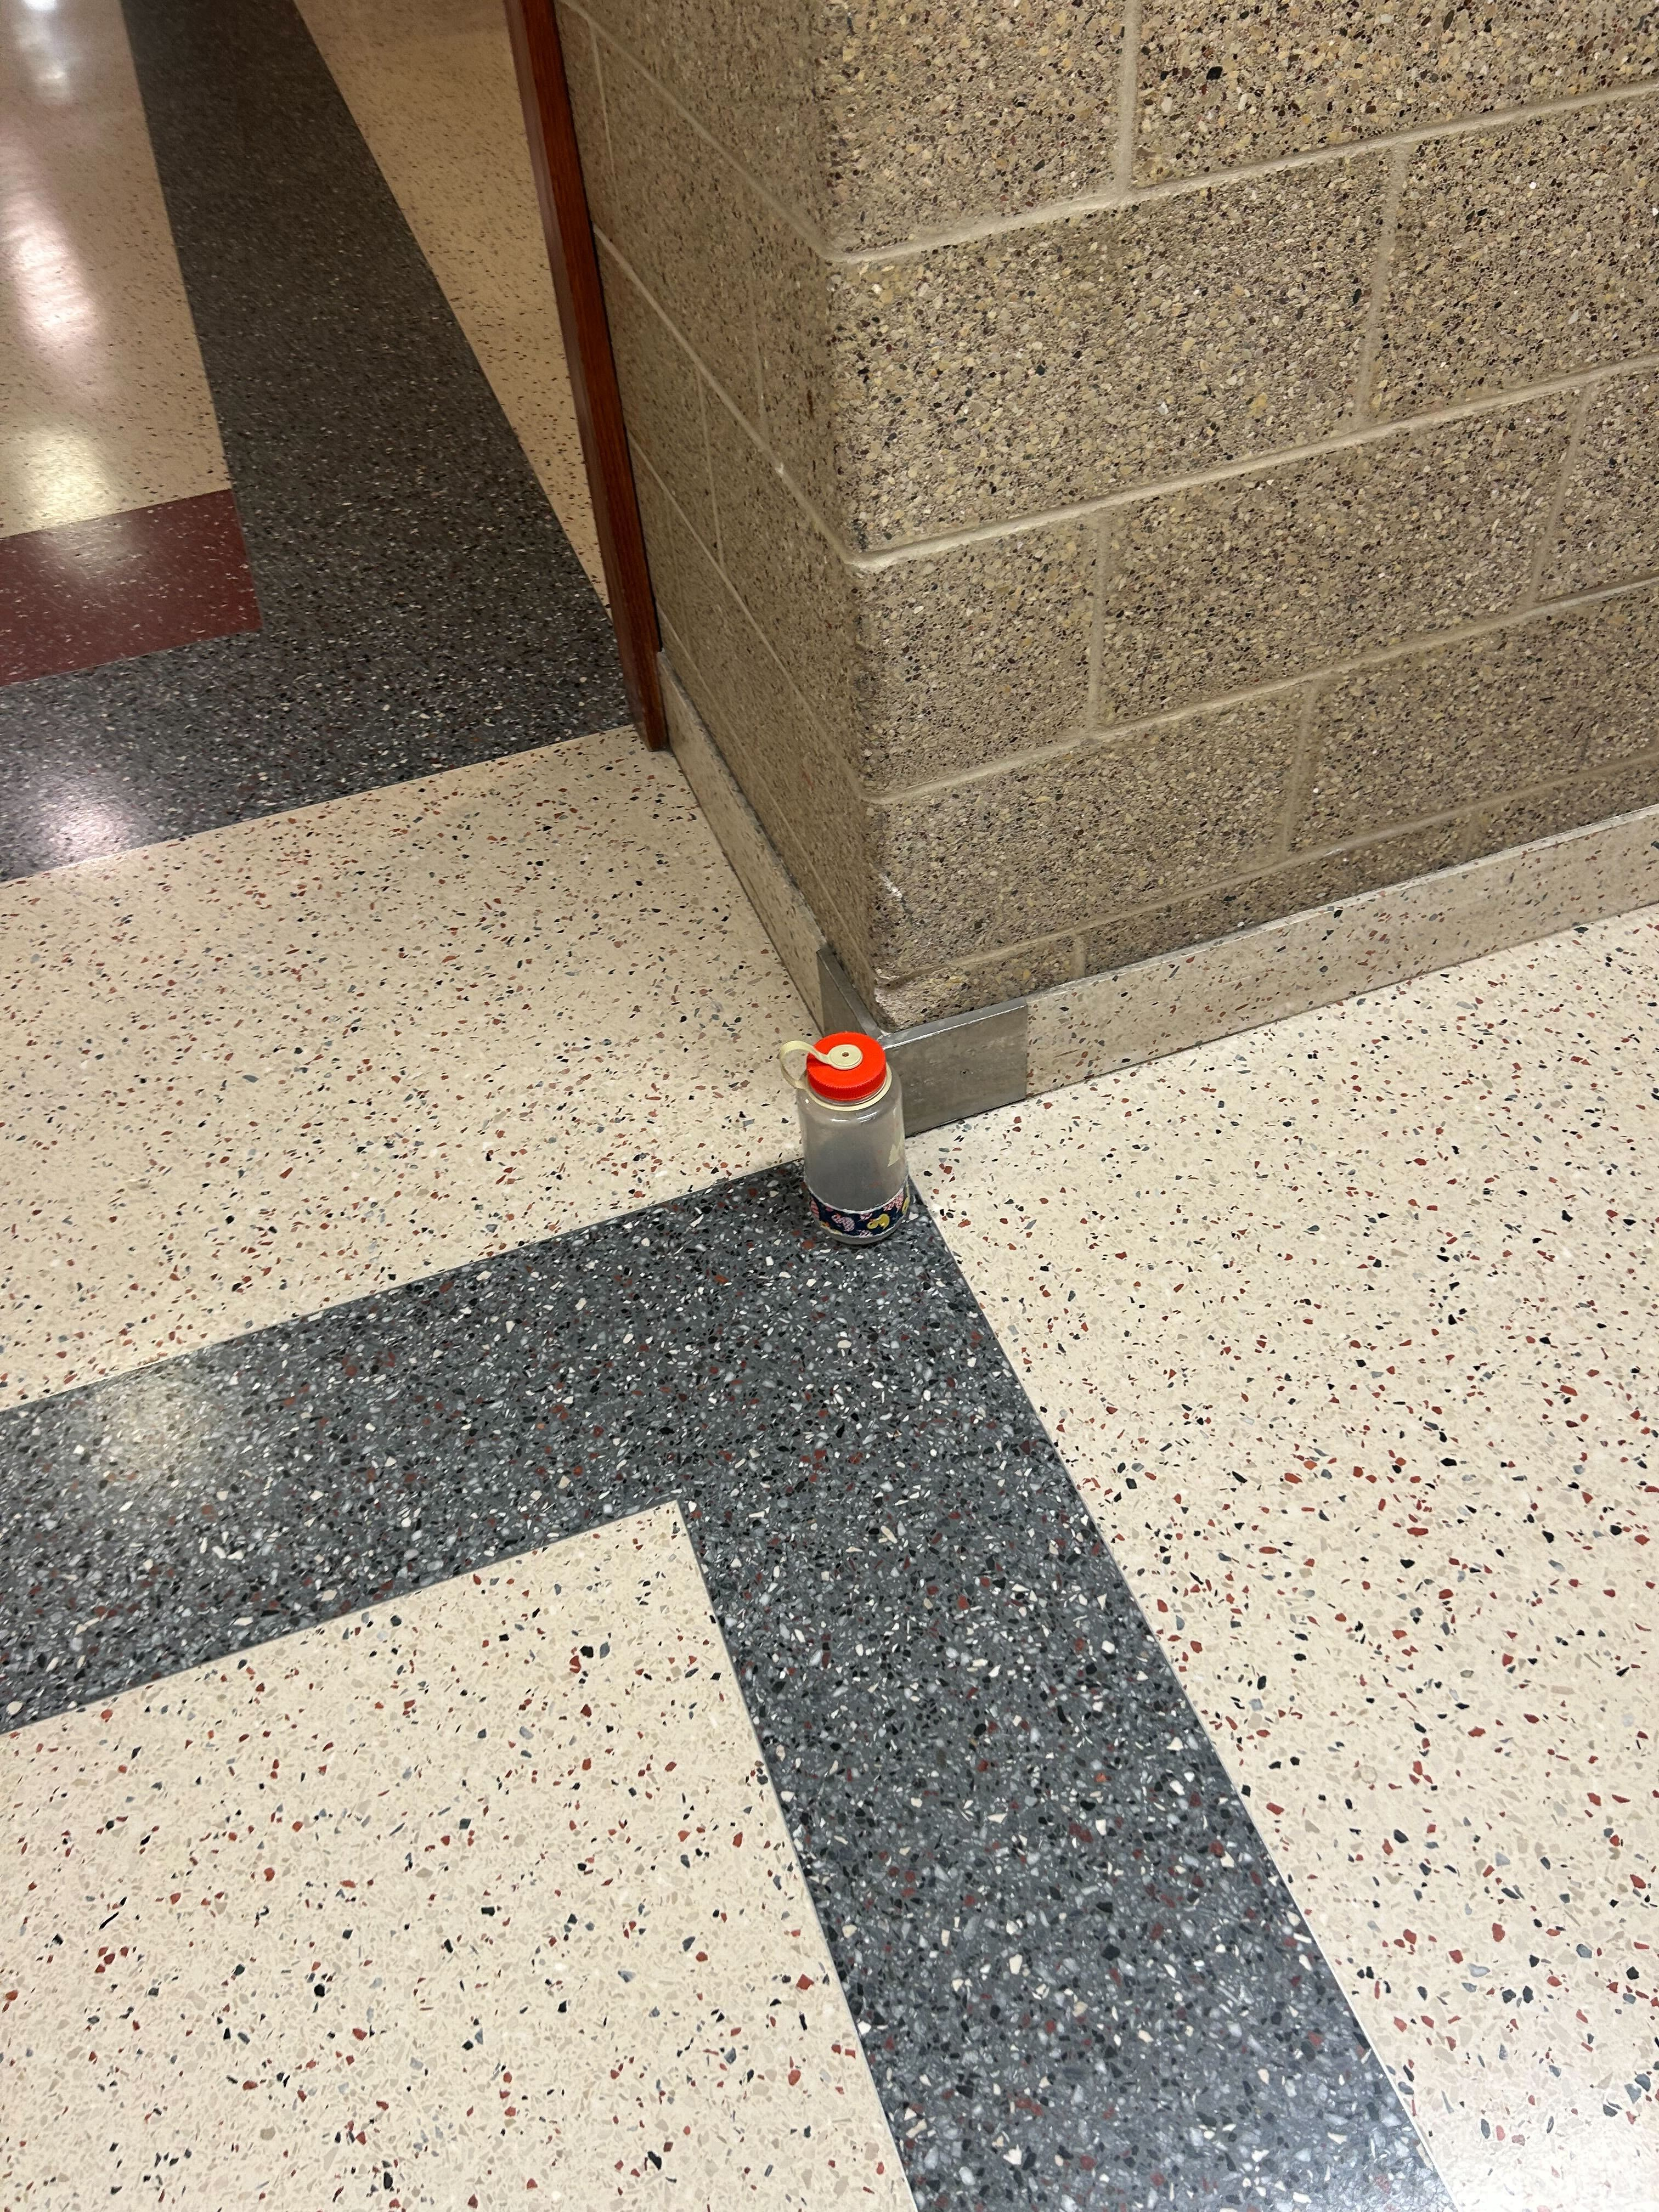bottle: (774, 1022, 910, 1245)
